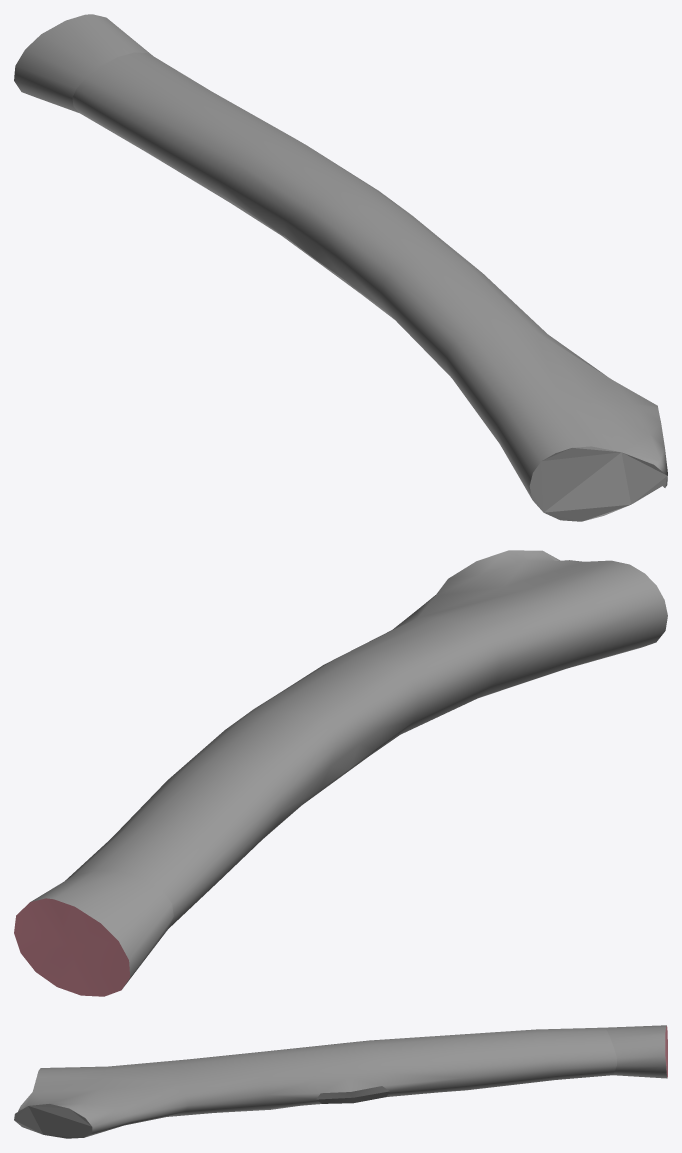
Rendered from IVC_in.FBX.
The picture shows the model from 3 angles, top to bottom: view 1: azimuth 30°, elevation 25°; view 2: azimuth 150°, elevation 25°; view 3: azimuth 270°, elevation 25°; orthographic projection. The views are drawn at different scales.
Parts seen in each view (by area): view 1: IVC_in-Snapshot; view 2: IVC_in-Snapshot; view 3: IVC_in-Snapshot.
Part boxes in pixels (x1,y1,x2,y2): IVC_in-Snapshot: (14, 14, 667, 521); IVC_in-Snapshot: (14, 550, 667, 996); IVC_in-Snapshot: (14, 1025, 667, 1138).
Size of the model in its own units: 25.46 by 18.2 by 122.
